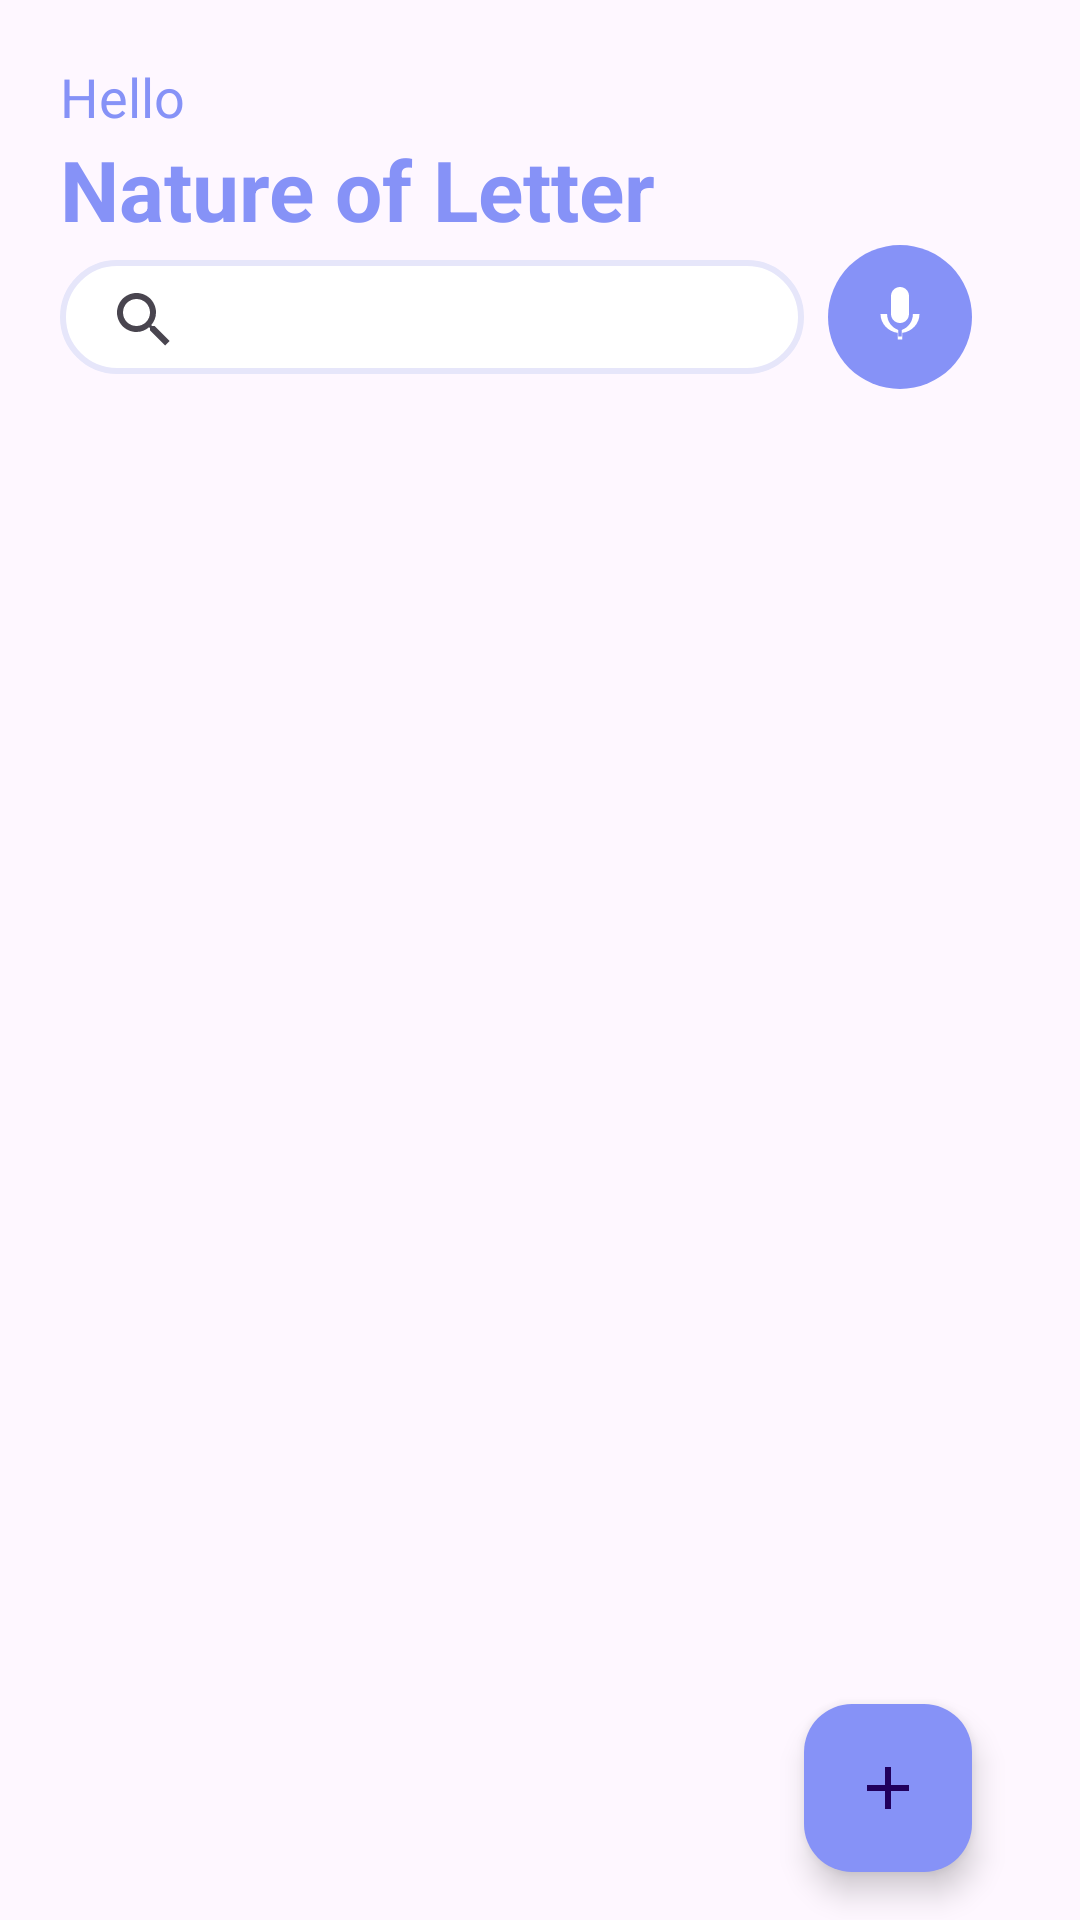

Where icons sit on this 1080px×1920px app screen, as {"left": x1, "top": y1, "right": x2, "bottom": y2}:
Add Task: {"left": 804, "top": 1704, "right": 972, "bottom": 1872}
Voice Search: {"left": 828, "top": 245, "right": 972, "bottom": 389}
